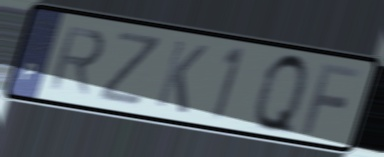1: (210, 45, 247, 125)
F: (298, 59, 367, 138)
K: (151, 37, 211, 118)
Q: (251, 49, 311, 141)
R: (45, 24, 109, 98)
Z: (94, 28, 166, 110)
